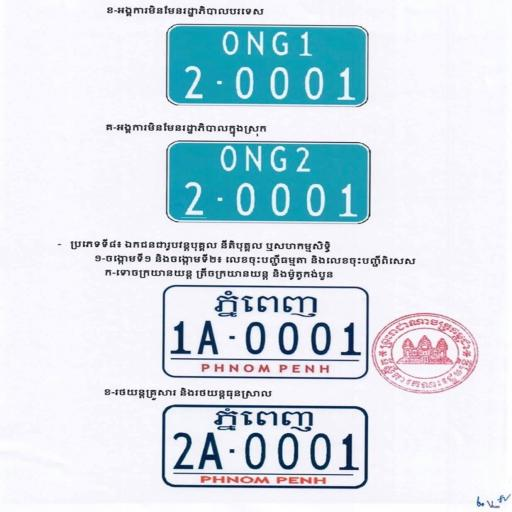Plate Number: (162, 286, 368, 380), (167, 23, 372, 108), (163, 141, 372, 224), (160, 407, 368, 490)
